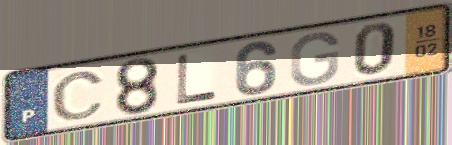0: (351, 20, 399, 78)
6: (233, 39, 280, 97)
8: (113, 56, 161, 117)
C: (49, 70, 107, 122)
G: (287, 30, 342, 87)
L: (174, 52, 219, 106)
